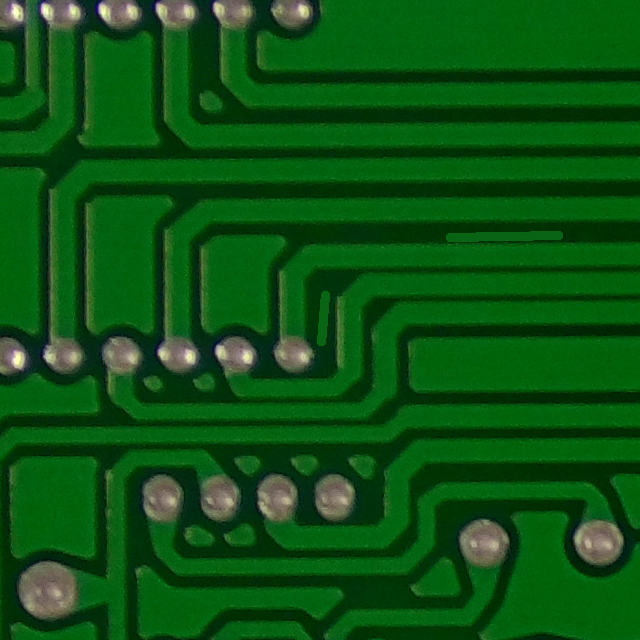spurious_copper: (425, 212, 583, 257), (302, 280, 339, 360)
